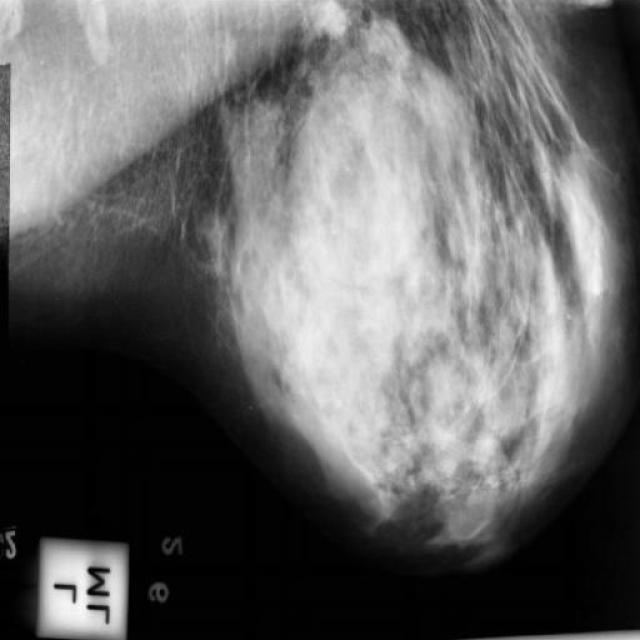cancer: (363, 197, 419, 276)
